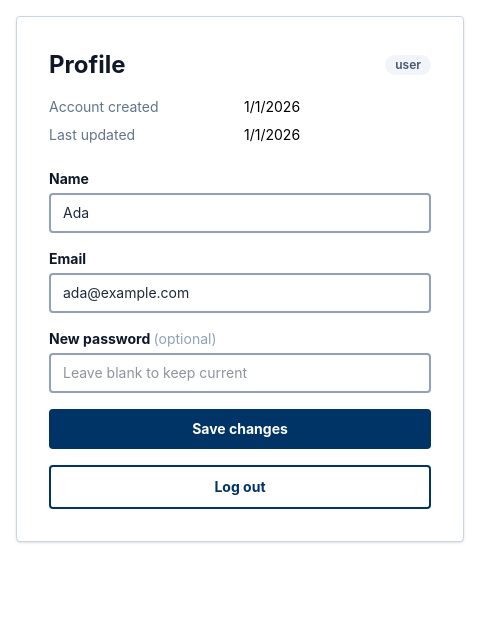
Scenario: Profile › shows the error when saving fails
Click the button "Save changes": [240, 429] box [49,409,431,449]
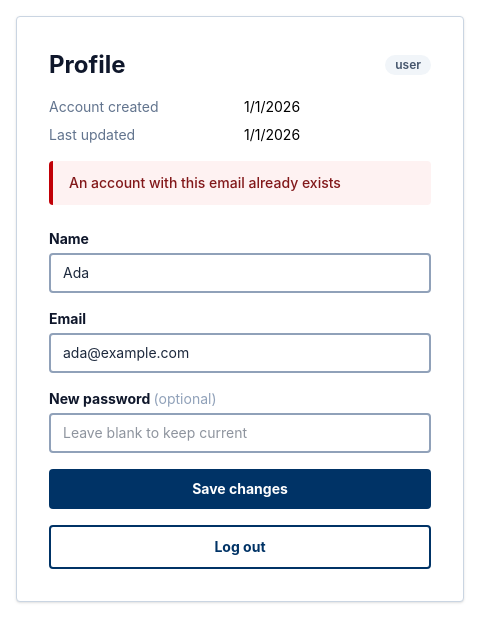
Check: the text "An account with this email already exists" is shown, box [49,161,431,205]
